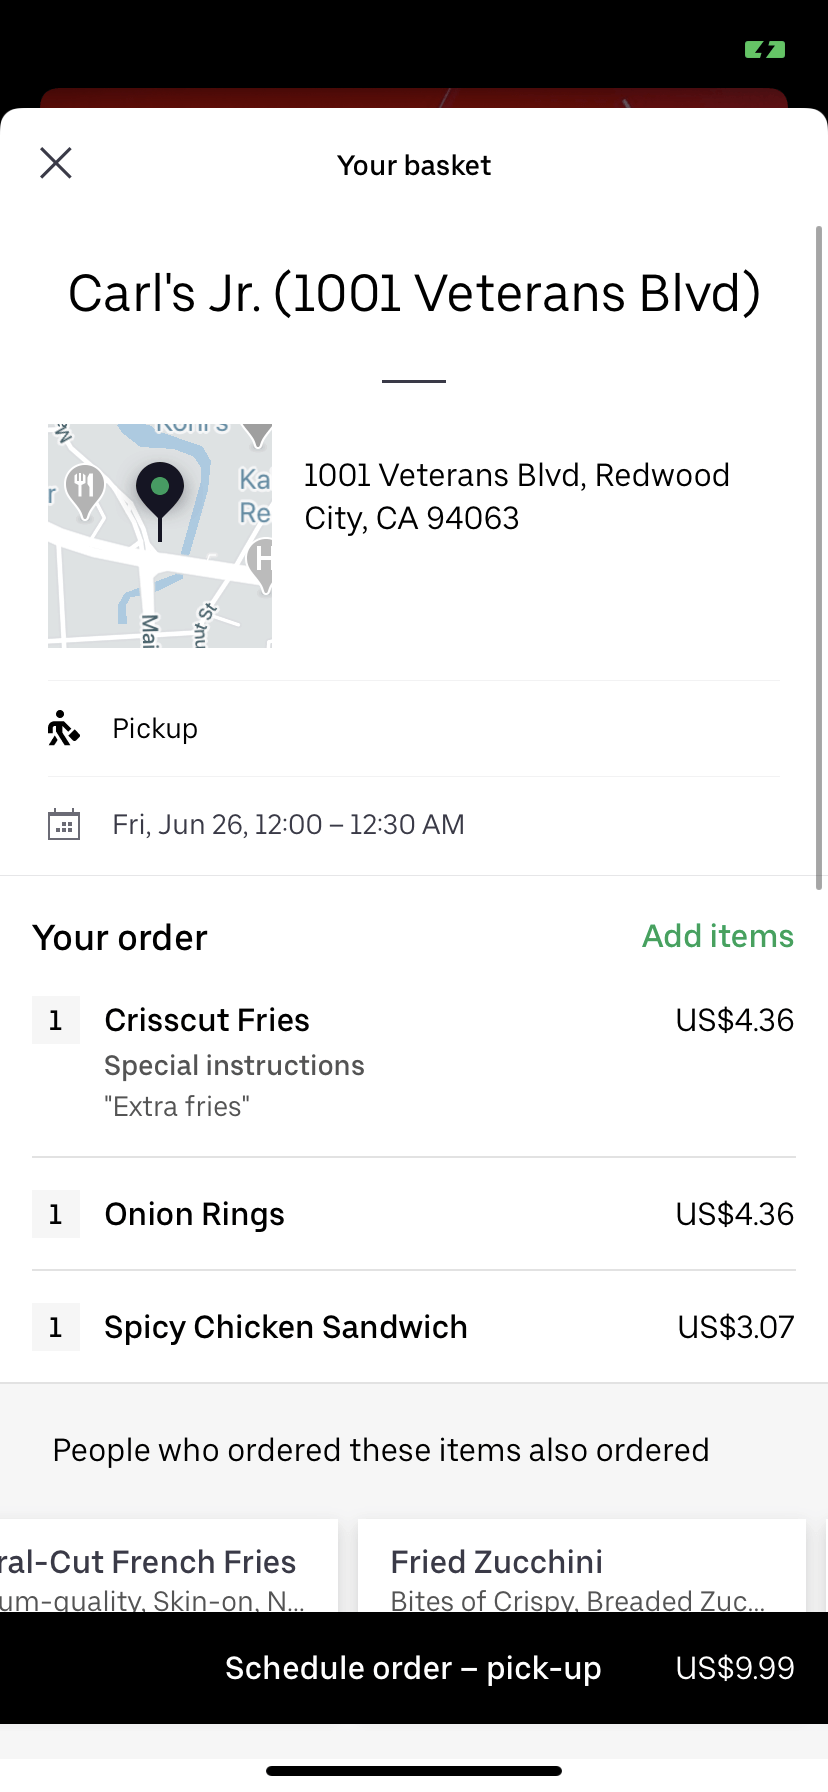Buttons: (1, 1600, 828, 1738), (618, 896, 809, 977), (13, 122, 98, 200)
